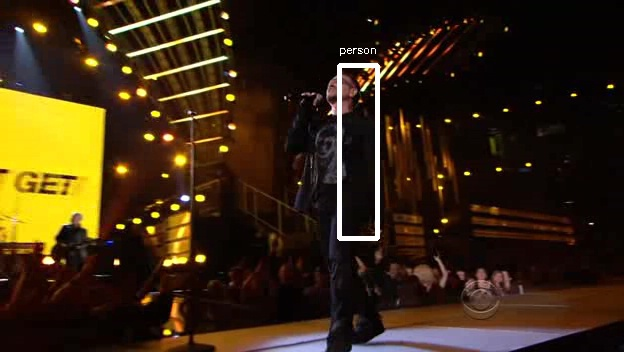person: (299, 71, 374, 236), (296, 71, 371, 236), (302, 71, 377, 236), (299, 68, 374, 233), (299, 74, 374, 239)
target_negative: (52, 11, 497, 286), (50, 254, 580, 346), (270, 205, 471, 267), (384, 309, 518, 320), (245, 259, 446, 265), (516, 173, 529, 225)
